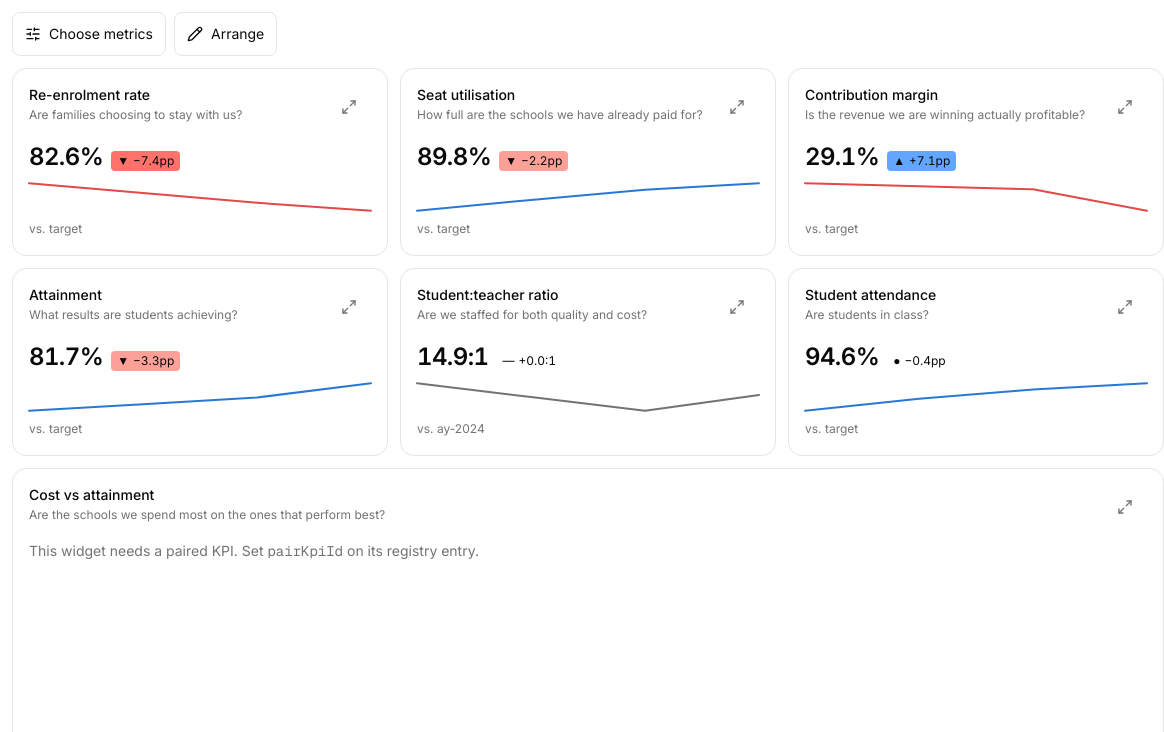
it: DashboardCustomizer › edit mode › hides move and remove controls until editing
The image size is (1164, 732).
Click the button "Arrange": point(226, 34) [174,12,277,56]
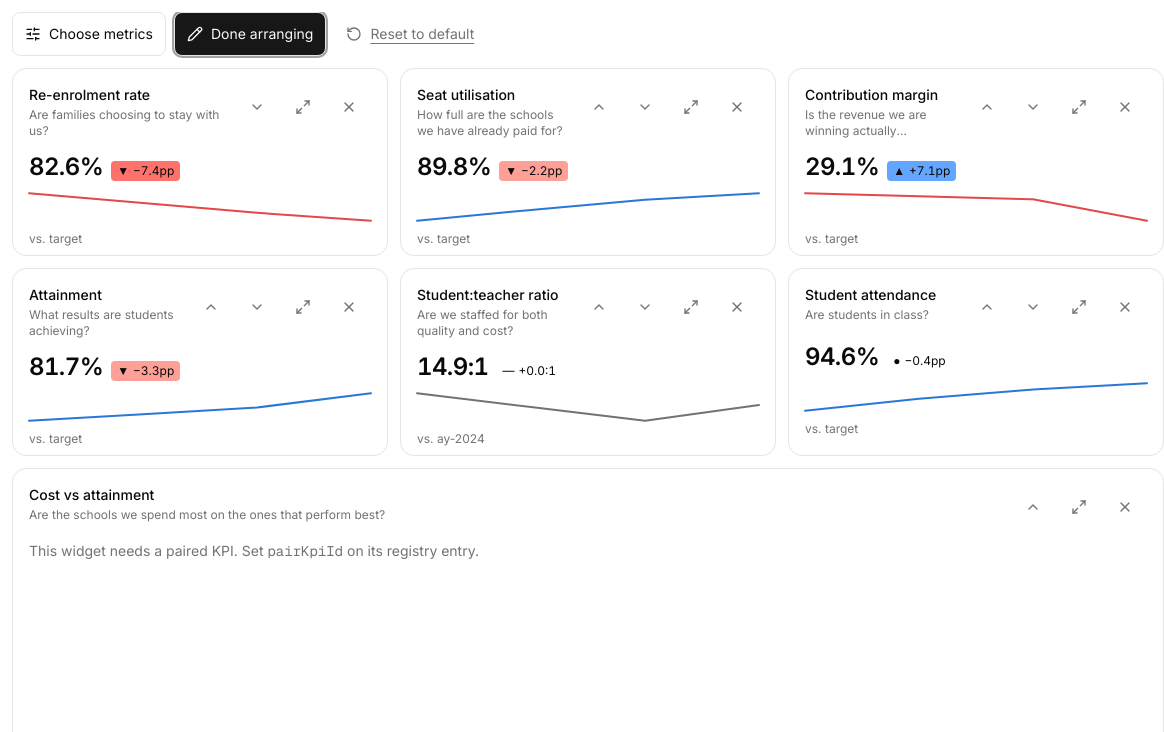
Expected: the button named "Move Re-enrolment rate down, currently 1 of 7" is shown, [235,85,279,129]
